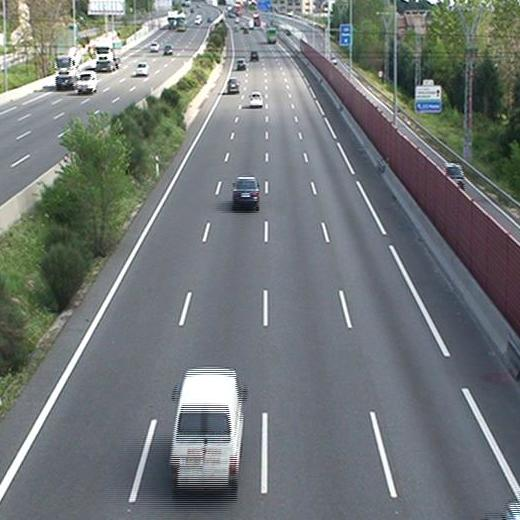bus: (265, 28, 277, 45)
car: (232, 177, 260, 210), (247, 92, 263, 107), (227, 78, 240, 94), (235, 57, 247, 72), (250, 50, 258, 59)
van: (167, 369, 245, 492)
